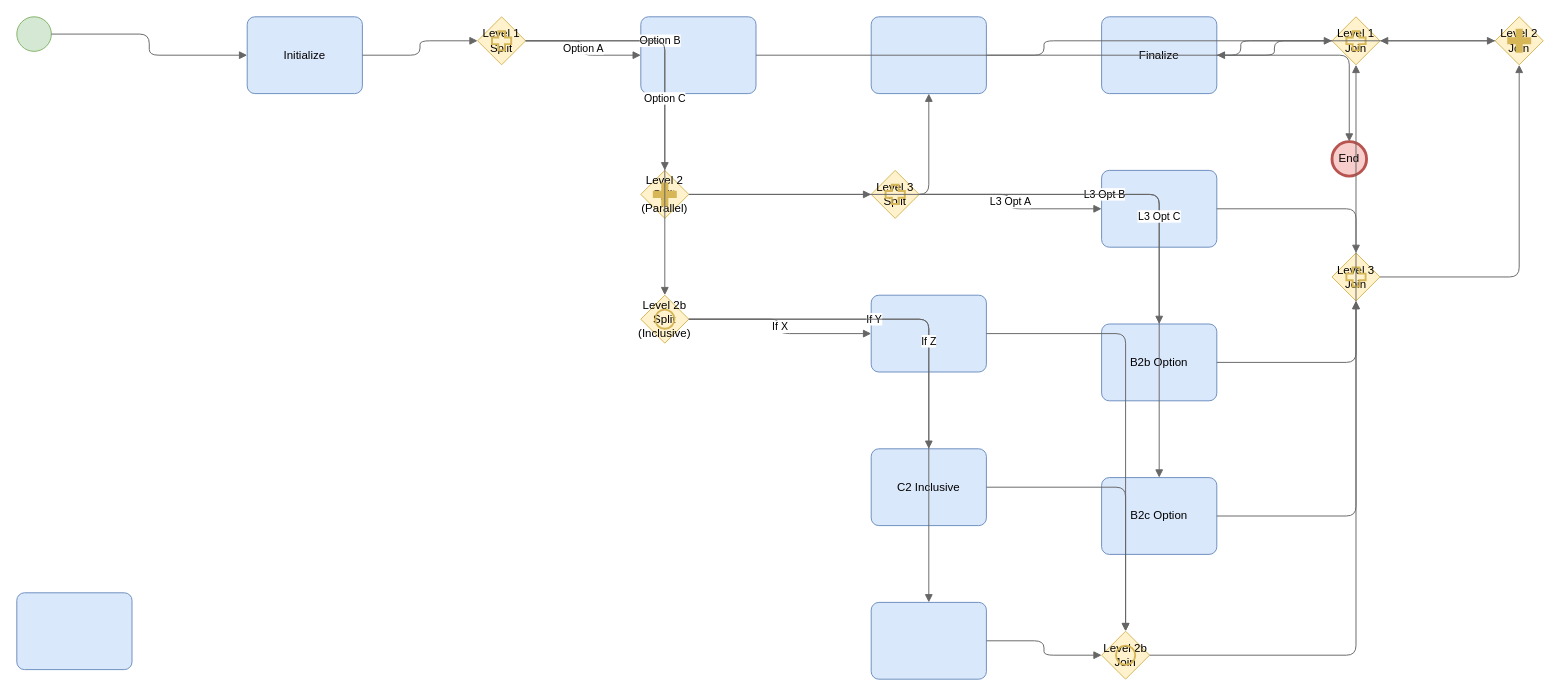
This 1560x696 diagram has some shape labels left out. Each missing label, with the centre of its shape:
B1 Parallel Task: the point at 928,55
B2 Parallel Task: the point at 74,631
B2a Option: the point at 1159,208
Branch A Direct: the point at 698,55
C1 Inclusive: the point at 928,333
C3 Inclusive: the point at 928,640
Start: the point at 33,33
